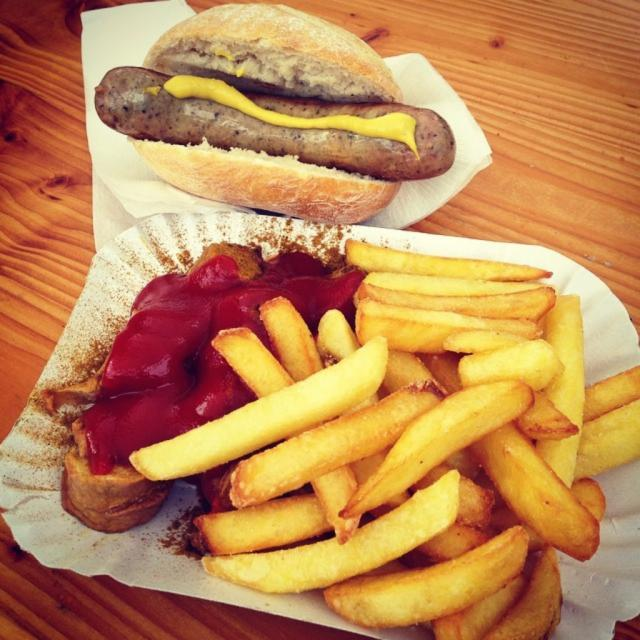Hot dog: (88, 0, 457, 234)
